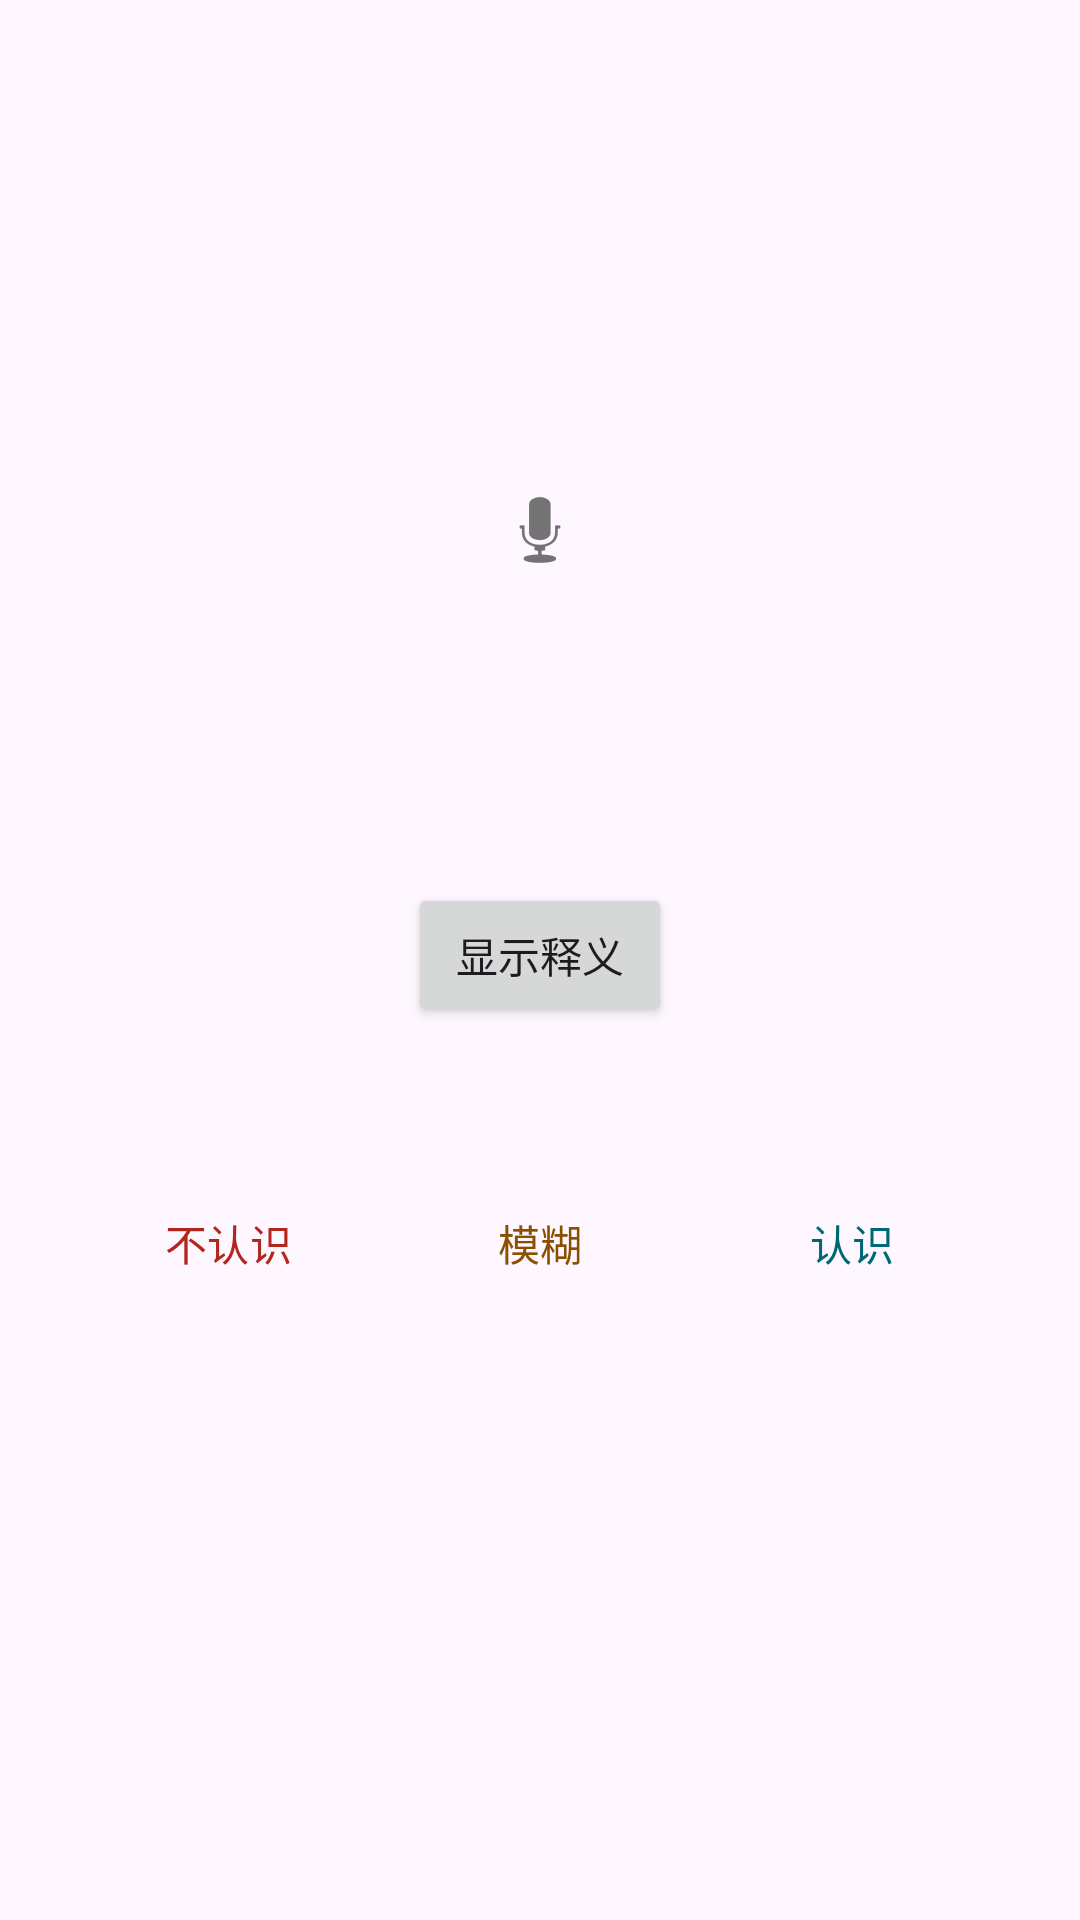

Icon bounding boxes for this 1080*1920 phone screenshot, format BBox(x1, y1, x2, y2):
朗读: BBox(519, 497, 561, 563)
